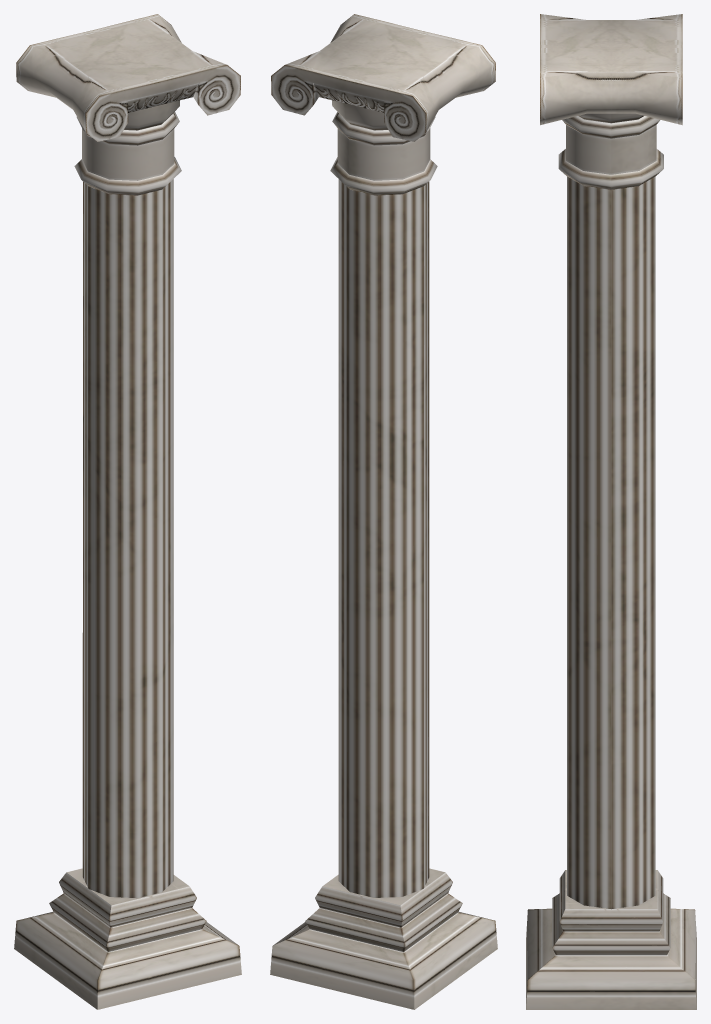
File: Room03_Pillar.FBX
3 renders of one model, left to right at view 1: azimuth 30°, elevation 25°; view 2: azimuth 150°, elevation 25°; view 3: azimuth 270°, elevation 25°, orthographic. The views are drawn at different scales.
Visible parts, largest first — view 1: Room03_Pillar; view 2: Room03_Pillar; view 3: Room03_Pillar.
Boxes of the visible parts, x1,y1,x2,y2 form: Room03_Pillar: [14, 14, 241, 1009]; Room03_Pillar: [270, 14, 497, 1009]; Room03_Pillar: [526, 14, 696, 1009].
Bounding box in the file's own units: 58.67 × 54.53 × 327.
